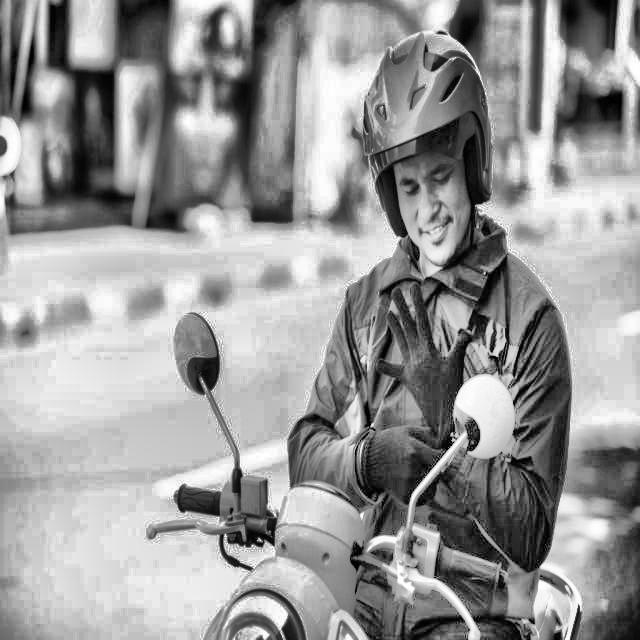Helmet: (357, 26, 498, 268)
